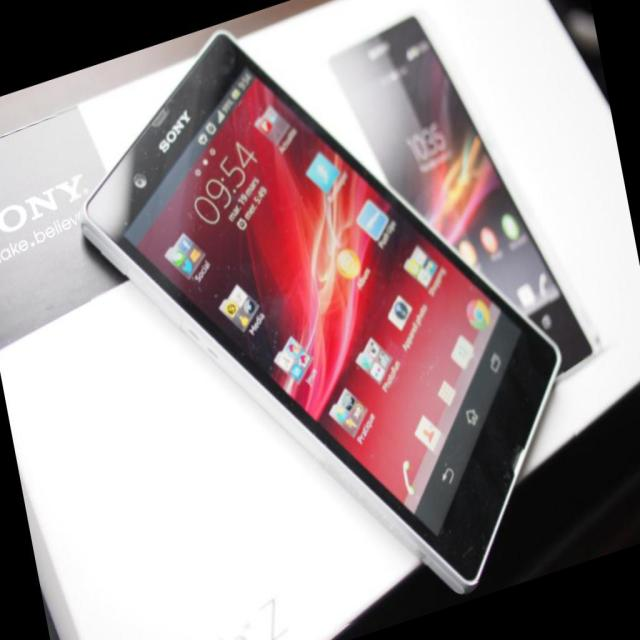handphone: (90, 38, 555, 597)
